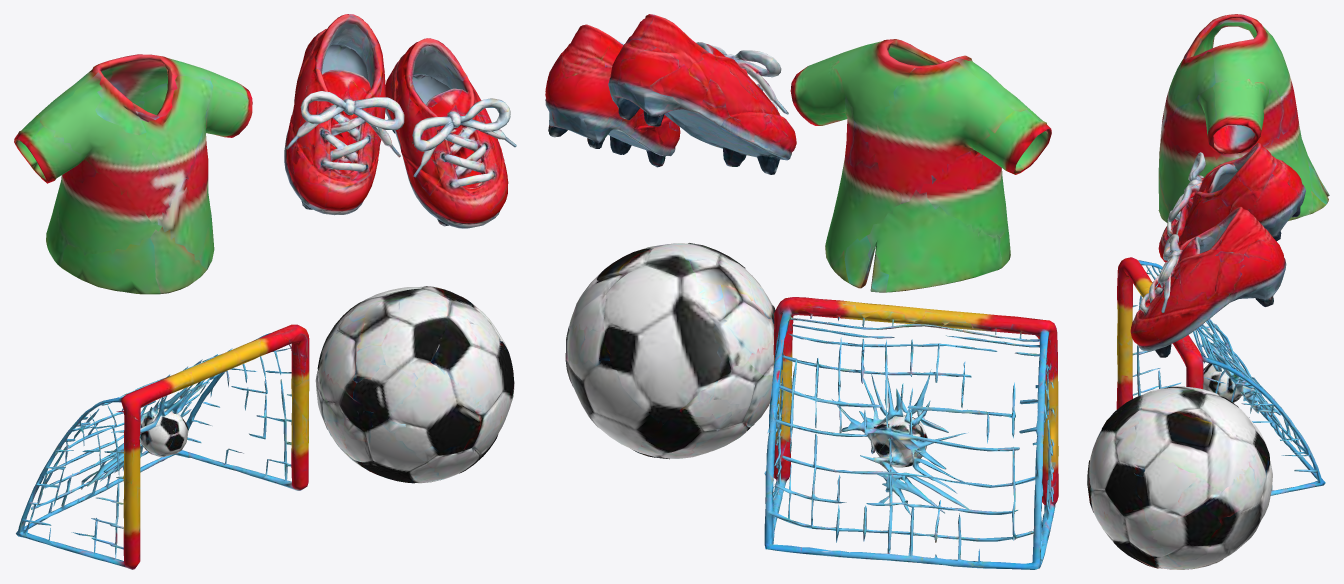
3 views of the same model, side by side, from view 1: azimuth 30°, elevation 25°; view 2: azimuth 150°, elevation 25°; view 3: azimuth 270°, elevation 25° (orthographic). The views are drawn at different scales.
Parts seen in each view (by area): view 1: Mesh 2, Mesh 7, Mesh 1, Mesh 3, Mesh 6, Mesh 8; view 2: Mesh 2, Mesh 7, Mesh 1, Mesh 6, Mesh 3, Mesh 8; view 3: Mesh 7, Mesh 2, Mesh 8, Mesh 1, Mesh 3, Mesh 6.
Boxes of the visible parts, bbox=[...] form: Mesh 2: bbox=[14, 54, 252, 294]; Mesh 7: bbox=[315, 286, 514, 483]; Mesh 1: bbox=[16, 324, 309, 569]; Mesh 3: bbox=[285, 14, 515, 228]; Mesh 6: bbox=[284, 14, 403, 214]; Mesh 8: bbox=[385, 38, 516, 228]; Mesh 2: bbox=[790, 39, 1051, 292]; Mesh 7: bbox=[565, 243, 775, 459]; Mesh 1: bbox=[764, 297, 1058, 569]; Mesh 6: bbox=[609, 14, 796, 174]; Mesh 3: bbox=[545, 14, 796, 174]; Mesh 8: bbox=[545, 24, 679, 167]; Mesh 7: bbox=[1087, 386, 1272, 569]; Mesh 2: bbox=[1158, 14, 1329, 222]; Mesh 8: bbox=[1131, 207, 1286, 357]; Mesh 1: bbox=[1116, 257, 1325, 495]; Mesh 3: bbox=[1130, 143, 1305, 357]; Mesh 6: bbox=[1158, 142, 1305, 259].
Bounding box in the file's own units: 1.9 × 1.78 × 0.9364.
Materials: 6 (6 with a texture image).
